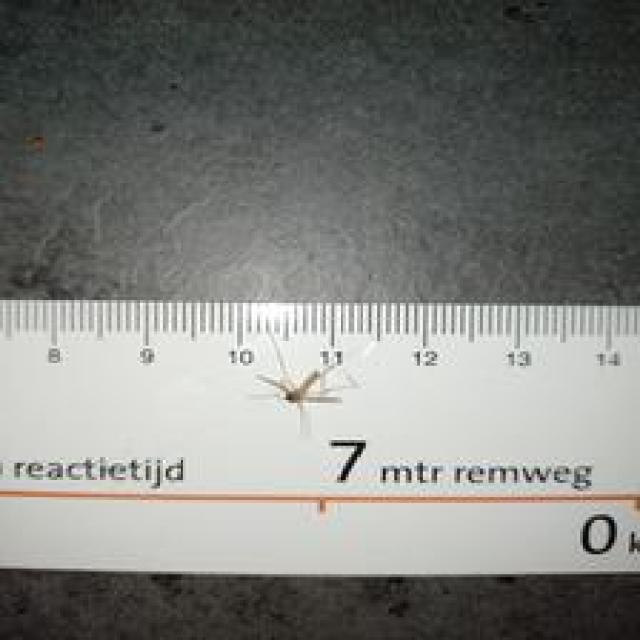Culex: (253, 330, 347, 433)
